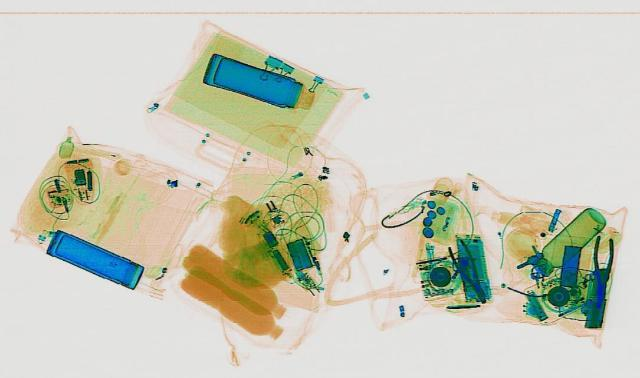Pliers: (442, 239, 496, 302), (586, 234, 614, 305)
